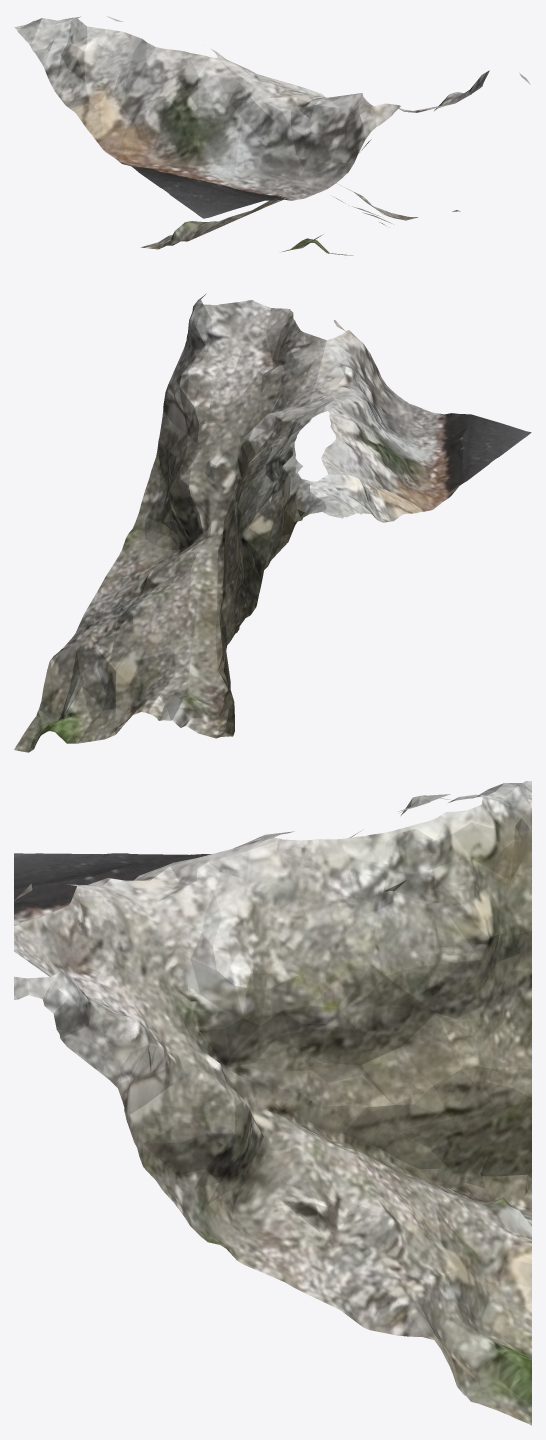
3 renders of one model, top to bottom at view 1: azimuth 30°, elevation 25°; view 2: azimuth 150°, elevation 25°; view 3: azimuth 270°, elevation 25°, orthographic. The views are drawn at different scales.
Bounding box in the file's own units: 2.95 × 2.78 × 2.95.
Materials: 3 (3 with a texture image).
